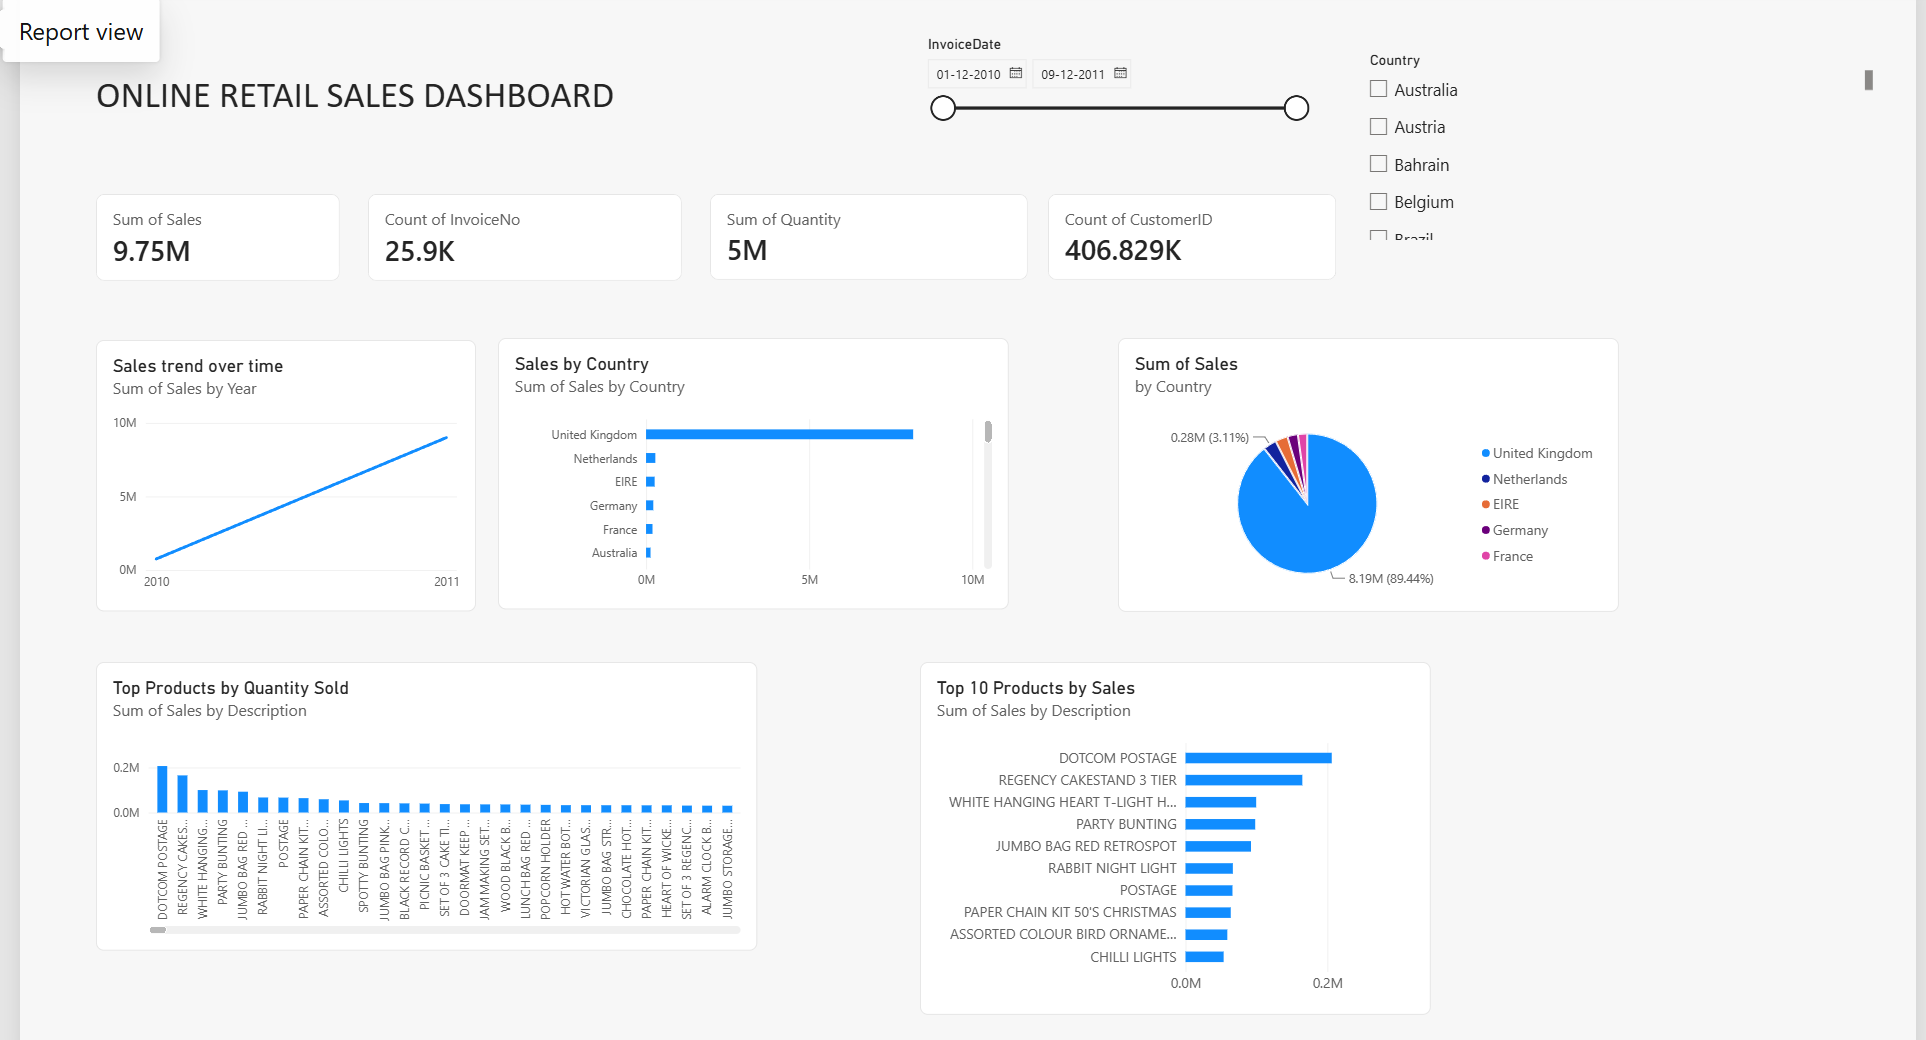

Layout of this report page (visuals, bound fields, positions):
{"tool":"powerbi","page":{"name":"Page 1","canvas":[1920,1080],"ordinal":0},"visuals":[{"type":"textbox","box":[10,0,280,280],"z":0},{"type":"textbox","box":[77.5,82.5,595,75],"z":1000},{"type":"cardVisual","fields":{"Data":["Sum(Online Retail.Sales)"]},"box":[77.5,207.5,248,88.7],"z":2000},{"type":"cardVisual","fields":{"Data":["Count(Online Retail.InvoiceNo)"]},"box":[352.5,207.5,318.1,88],"z":3000},{"type":"cardVisual","fields":{"Data":["Sum(Online Retail.Quantity)"]},"box":[700,207.5,322.5,87.5],"z":4000},{"type":"cardVisual","fields":{"Data":["CountNonNull(Online Retail.CustomerID)"]},"box":[1042.5,207.5,292.5,87.5],"z":5000},{"type":"lineChart","title":"Sales trend over time","fields":{"Category":["Online Retail.InvoiceDate.Variation.Date Hierarchy.Year","Online Retail.InvoiceDate.Variation.Date Hierarchy.Quarter","Online Retail.InvoiceDate.Variation.Date Hierarchy.Month","Online Retail.InvoiceDate.Variation.Date Hierarchy.Day"],"Y":["Sum(Online Retail.Sales)"]},"box":[77.5,355,385,275],"z":6000},{"type":"clusteredBarChart","title":"Sales by Country","fields":{"Category":["Online Retail.Country"],"Y":["Sum(Online Retail.Sales)"]},"box":[485,352.5,517.5,275],"z":7000},{"type":"clusteredBarChart","title":"Top 10 Products by Sales","fields":{"Category":["Online Retail.Description"],"Y":["Sum(Online Retail.Sales)"]},"box":[912.5,680,517.5,357.5],"z":8000},{"type":"clusteredColumnChart","title":"Top Products by Quantity Sold","fields":{"Category":["Online Retail.Description"],"Y":["Sum(Online Retail.Sales)"]},"box":[77.5,680,670,292.5],"z":9000},{"type":"slicer","fields":{"Values":["Online Retail.Country"]},"box":[1360,62.5,517.5,190],"z":10000},{"type":"slicer","fields":{"Values":["Online Retail.InvoiceDate"]},"box":[912.5,47.5,397.5,150],"z":11000},{"type":"pieChart","fields":{"Category":["Online Retail.Country"],"Y":["Sum(Online Retail.Sales)"]},"box":[1112.5,352.5,507.5,277.5],"z":11001}]}

Visuals, with their boxes on the page's 1920x1080 design canvas (x1, y1, x2, y2). These are canvas units, not pixel positions in the 1926x1040 screenshot, which may show the page scaled, cropped or inside an application window:
textbox: [x1=10, y1=0, x2=290, y2=280]
textbox: [x1=78, y1=82, x2=672, y2=158]
cardVisual - Sum(Online Retail.Sales): [x1=78, y1=208, x2=326, y2=296]
cardVisual - Count(Online Retail.InvoiceNo): [x1=352, y1=208, x2=671, y2=296]
cardVisual - Sum(Online Retail.Quantity): [x1=700, y1=208, x2=1022, y2=295]
cardVisual - CountNonNull(Online Retail.CustomerID): [x1=1042, y1=208, x2=1335, y2=295]
"Sales trend over time" lineChart: [x1=78, y1=355, x2=462, y2=630]
"Sales by Country" clusteredBarChart: [x1=485, y1=352, x2=1002, y2=628]
"Top 10 Products by Sales" clusteredBarChart: [x1=912, y1=680, x2=1430, y2=1038]
"Top Products by Quantity Sold" clusteredColumnChart: [x1=78, y1=680, x2=748, y2=972]
slicer - Online Retail.Country: [x1=1360, y1=62, x2=1878, y2=252]
slicer - Online Retail.InvoiceDate: [x1=912, y1=48, x2=1310, y2=198]
pieChart - Online Retail.Country x Sum(Online Retail.Sales): [x1=1112, y1=352, x2=1620, y2=630]
